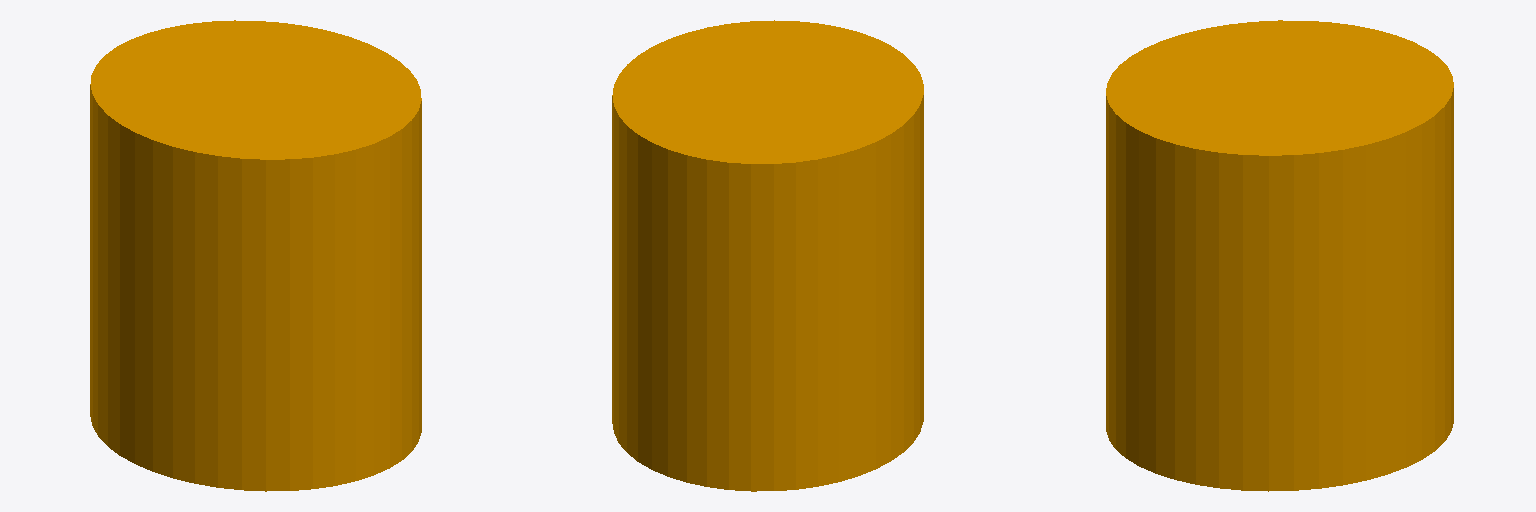
URDF robot description (object):
<?xml version="1.0"?>
<robot name="object">
  <link name="object">
    <visual>
      <origin xyz="0 0 0"/>
      <geometry>
        <mesh filename="meshes/generated/col_014.obj" scale="0.03 0.03 0.03"/>
      </geometry>
    </visual>
    <collision>
      <origin xyz="0 0 0"/>
      <geometry>
        <mesh filename="meshes/generated/col_014.obj" scale="0.03 0.03 0.03"/>
      </geometry>
    </collision>
    <inertial>
      <density value="1000.0"/>
    </inertial>
  </link>
</robot>

--- What the picture shows (computed from the rendered views, not written in the file) ---
3 views of the same robot in one strip: view 1: azimuth 30°, elevation 25°; view 2: azimuth 150°, elevation 25°; view 3: azimuth 270°, elevation 25° (orthographic).
Robot: object — 1 links, 0 joints (none); root link object; default pose: all joints at 0.
Visible links, largest first — view 1: object; view 2: object; view 3: object.
Link boxes in pixels (x1,y1,x2,y2): object: (90, 20, 421, 491); object: (612, 20, 923, 491); object: (1106, 20, 1453, 491).
Size in the robot's own frame: 0.0519 by 0.0564 by 0.06 metres.
1 mesh visuals loaded from 1 distinct referenced files (1 OBJ).
